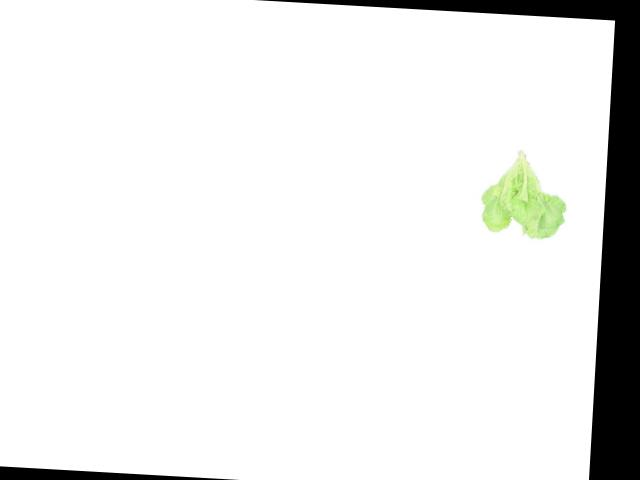lettuce: (476, 146, 574, 246)
